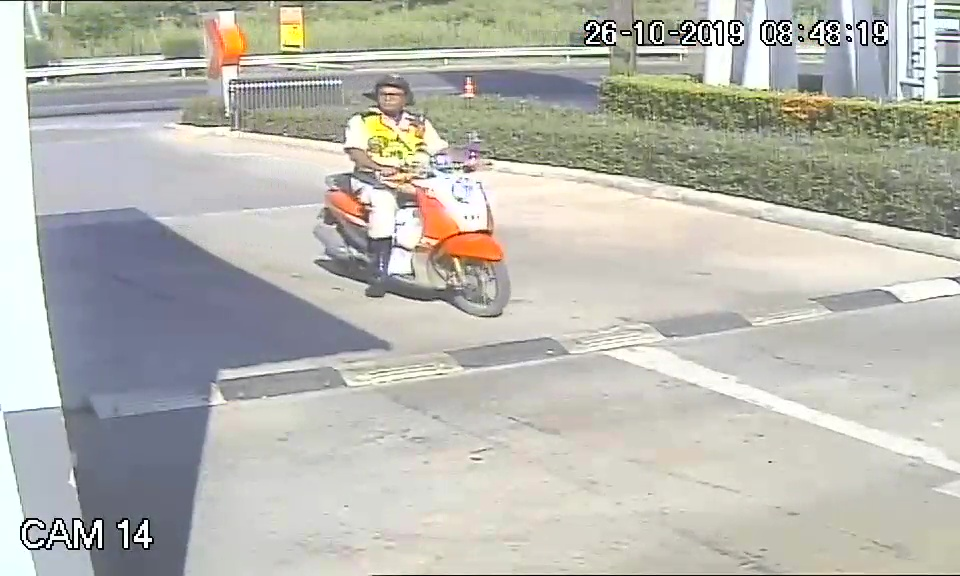motorcycle: (310, 146, 517, 317)
